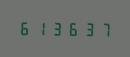one: (32, 19, 46, 36)
seven: (93, 20, 107, 37)
six: (63, 19, 77, 37), (17, 19, 31, 36)
three: (48, 19, 62, 36), (78, 20, 92, 37)
